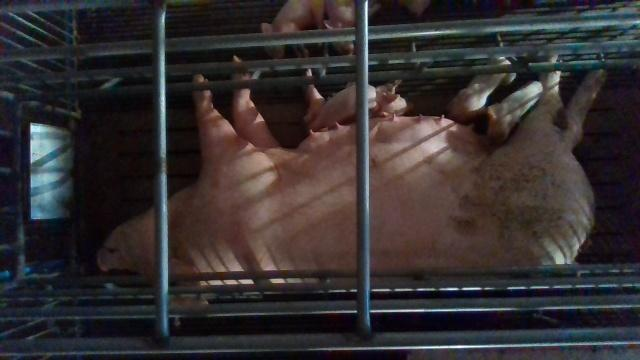piglet: (445, 58, 516, 123), (260, 0, 326, 58), (485, 81, 543, 145), (308, 80, 376, 131), (323, 0, 383, 55), (376, 91, 413, 116)
sow-sleep-lactate: (96, 55, 606, 283)
